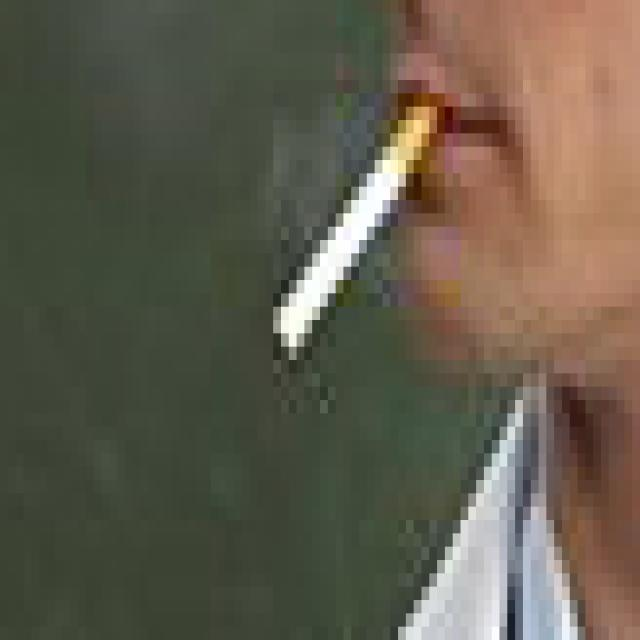smoking: (269, 92, 436, 368)
